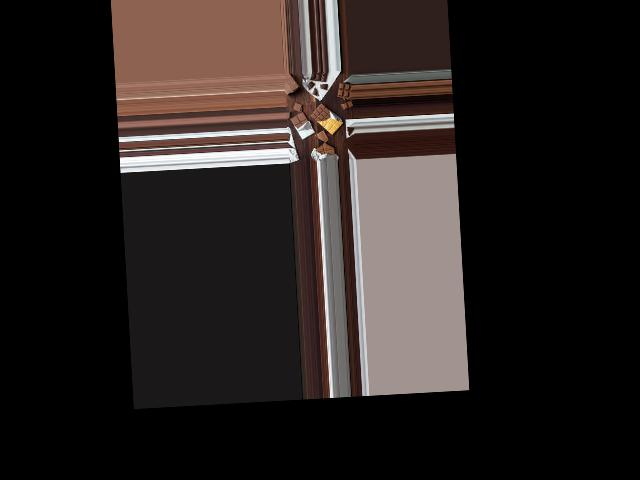chocolate: (287, 111, 315, 138)
